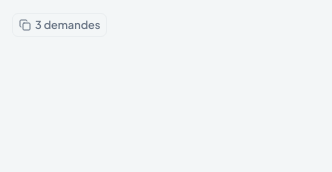
Scenario: DuplicateBadge › demande confirmation avant d’archiver
Later steps or results of the test are not shown.
Click the button with aria-label "archiver cette demande". click: (60, 25)
box: [12,13,107,37]
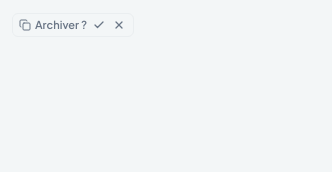
Now the text "Archiver ?" is shown, box [12,13,134,37]
